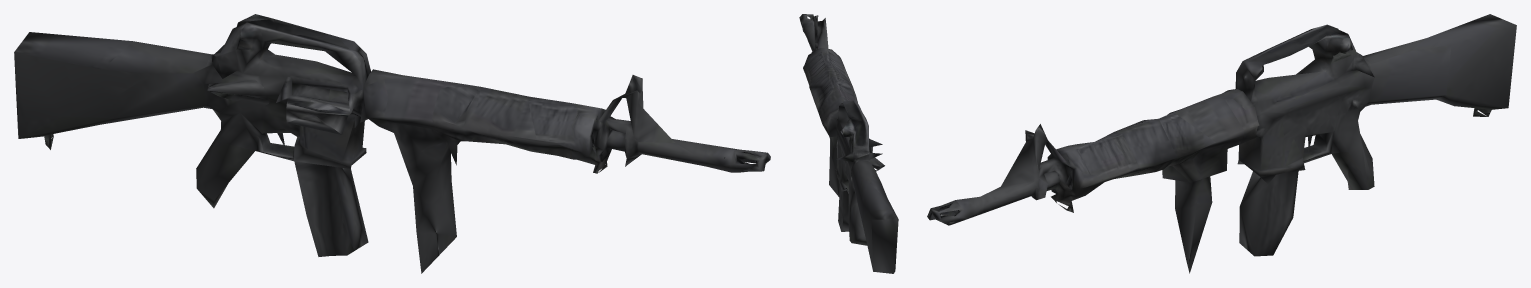
Rendered from rifle.min.glb.
3 views of the same model, side by side, from view 1: azimuth 30°, elevation 25°; view 2: azimuth 150°, elevation 25°; view 3: azimuth 270°, elevation 25° (orthographic). The views are drawn at different scales.
Visible parts, largest first — view 1: tripo_node_0f355b5a-2b3f-4d8b-909d-776aedce8b10; view 2: tripo_node_0f355b5a-2b3f-4d8b-909d-776aedce8b10; view 3: tripo_node_0f355b5a-2b3f-4d8b-909d-776aedce8b10.
Boxes of the visible parts, box(x1,y1,x2,y2) form: tripo_node_0f355b5a-2b3f-4d8b-909d-776aedce8b10: box(14, 14, 770, 273); tripo_node_0f355b5a-2b3f-4d8b-909d-776aedce8b10: box(799, 14, 898, 273); tripo_node_0f355b5a-2b3f-4d8b-909d-776aedce8b10: box(927, 14, 1516, 273).
Size of the model in its own units: 0.8294 by 0.3907 by 0.9985.
Materials: 1 (1 with a texture image).
